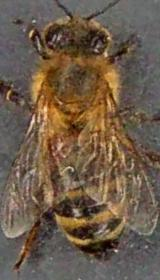varroa_mite: (44, 134, 78, 161)
